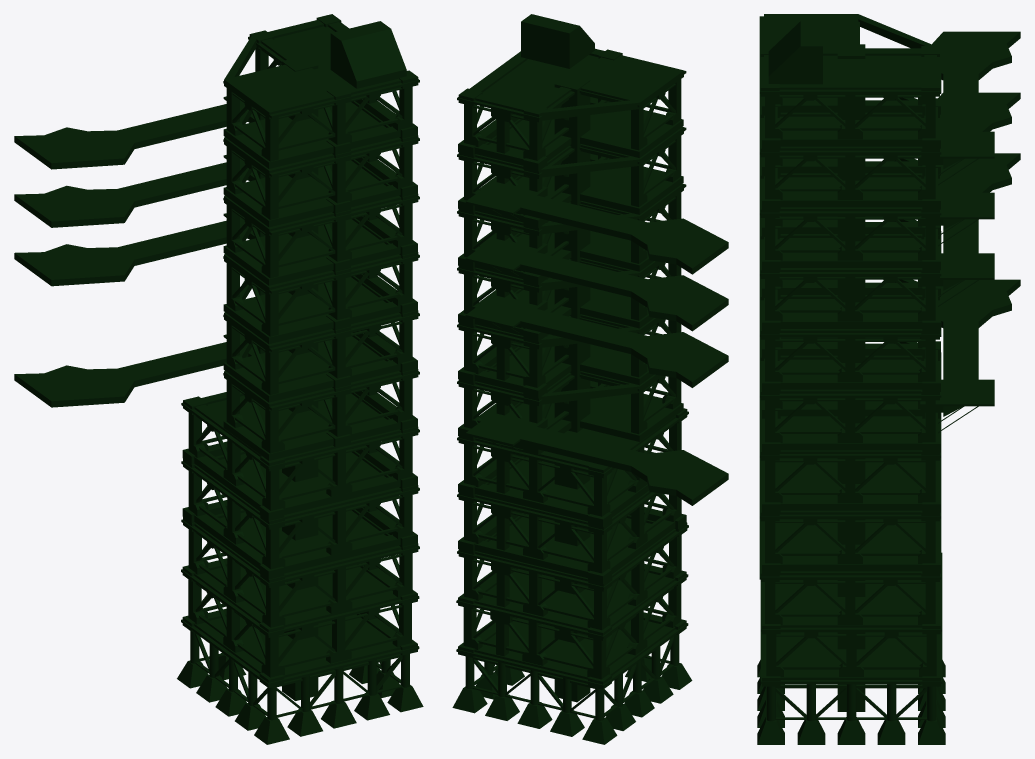
File: 거치대.fbx
3 renders of one model, left to right at view 1: azimuth 30°, elevation 25°; view 2: azimuth 150°, elevation 25°; view 3: azimuth 270°, elevation 25°, orthographic. The views are drawn at different scales.
Visible parts, largest first — view 1: 거치대; view 2: 거치대; view 3: 거치대.
Part boxes in pixels (box(x1,y1,x2,y2)): 거치대: box(14, 14, 423, 744); 거치대: box(452, 14, 728, 744); 거치대: box(757, 14, 1020, 744).
Bounding box in the file's own units: 2441 × 1889 × 5494.
